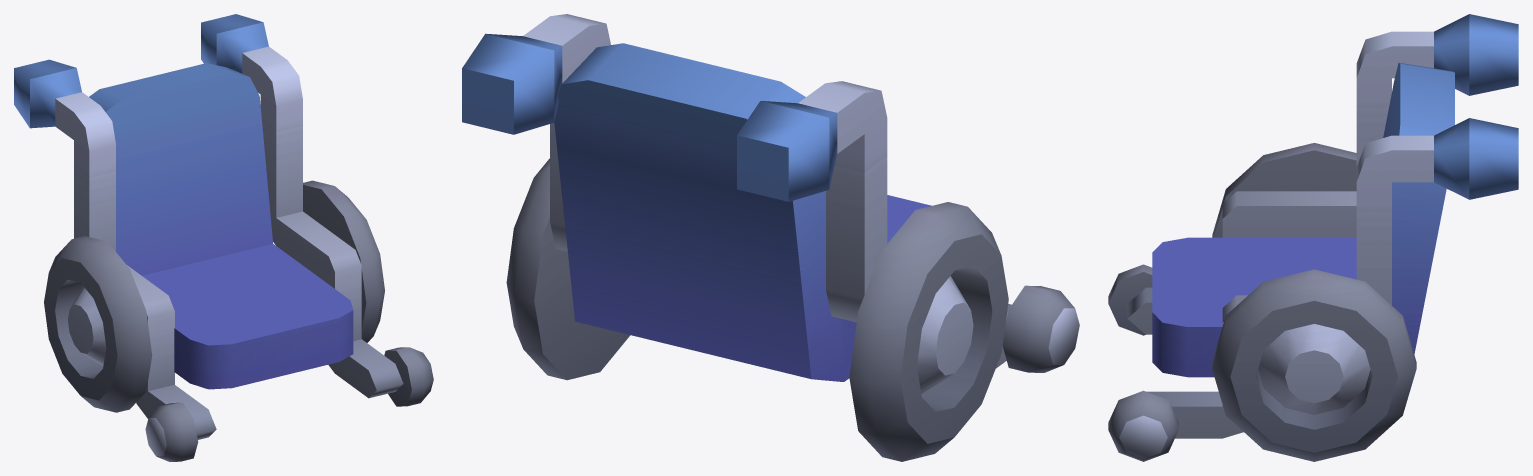
The model's file is rullstol.glb.
The picture shows the model from 3 angles, left to right: view 1: azimuth 30°, elevation 25°; view 2: azimuth 150°, elevation 25°; view 3: azimuth 270°, elevation 25°; orthographic projection. The views are drawn at different scales.
Parts seen in each view (by area): view 1: wheelchair; view 2: wheelchair; view 3: wheelchair.
Part boxes in pixels (<box>): wheelchair: <box>14,14,433,461</box>; wheelchair: <box>462,14,1079,461</box>; wheelchair: <box>1108,14,1518,461</box>.
Size of the model in its own units: 0.5 by 0.495 by 0.5824.
1 material, 1 textured.
